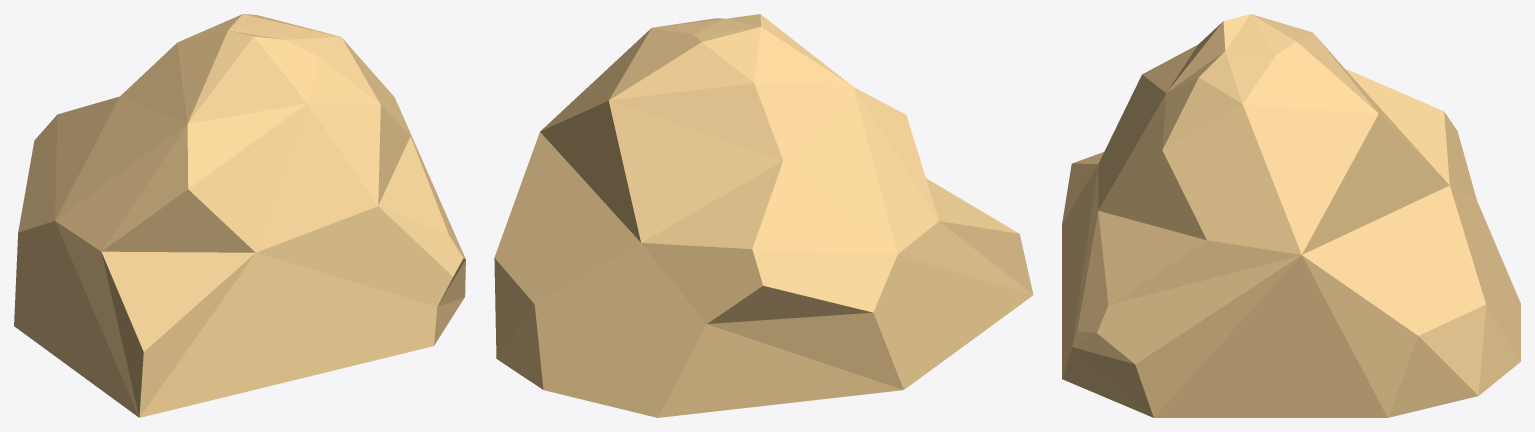
The model's file is 1x1Rock.fbx.
3 views of the same model, side by side, from view 1: azimuth 30°, elevation 25°; view 2: azimuth 150°, elevation 25°; view 3: azimuth 270°, elevation 25° (orthographic). The views are drawn at different scales.
Parts seen in each view (by area): view 1: 1x1 Rock; view 2: 1x1 Rock; view 3: 1x1 Rock.
Boxes of the visible parts, left/top/right/bottom form: 1x1 Rock: left=14, top=14, right=465, bottom=417; 1x1 Rock: left=494, top=14, right=1033, bottom=417; 1x1 Rock: left=1062, top=14, right=1520, bottom=417.
Size of the model in its own units: 100 by 72.81 by 100.
